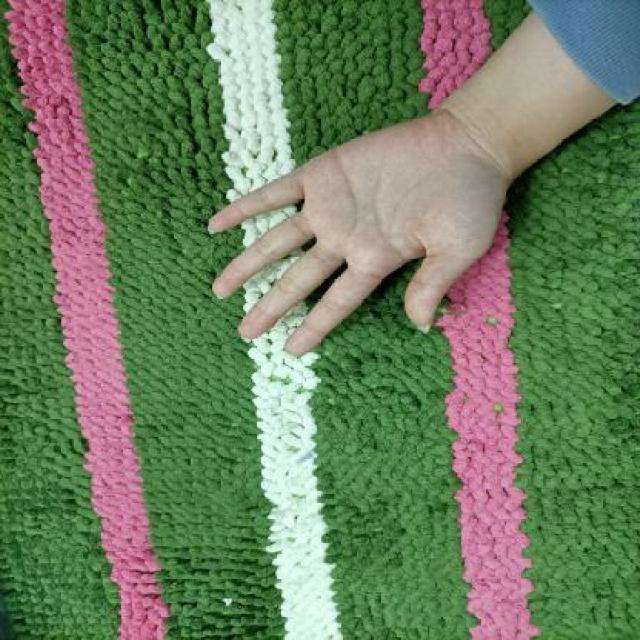bare_hand: (180, 95, 529, 372)
